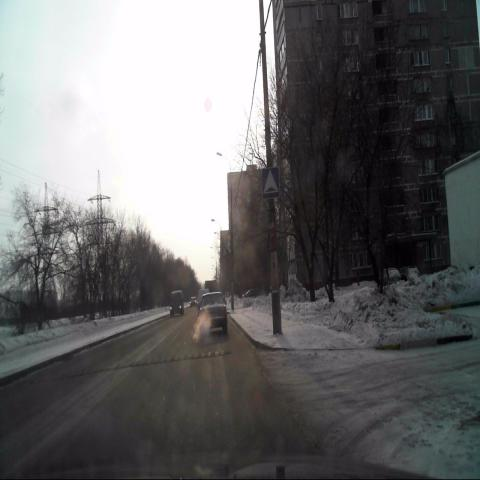5_20: (262, 168, 279, 198)
